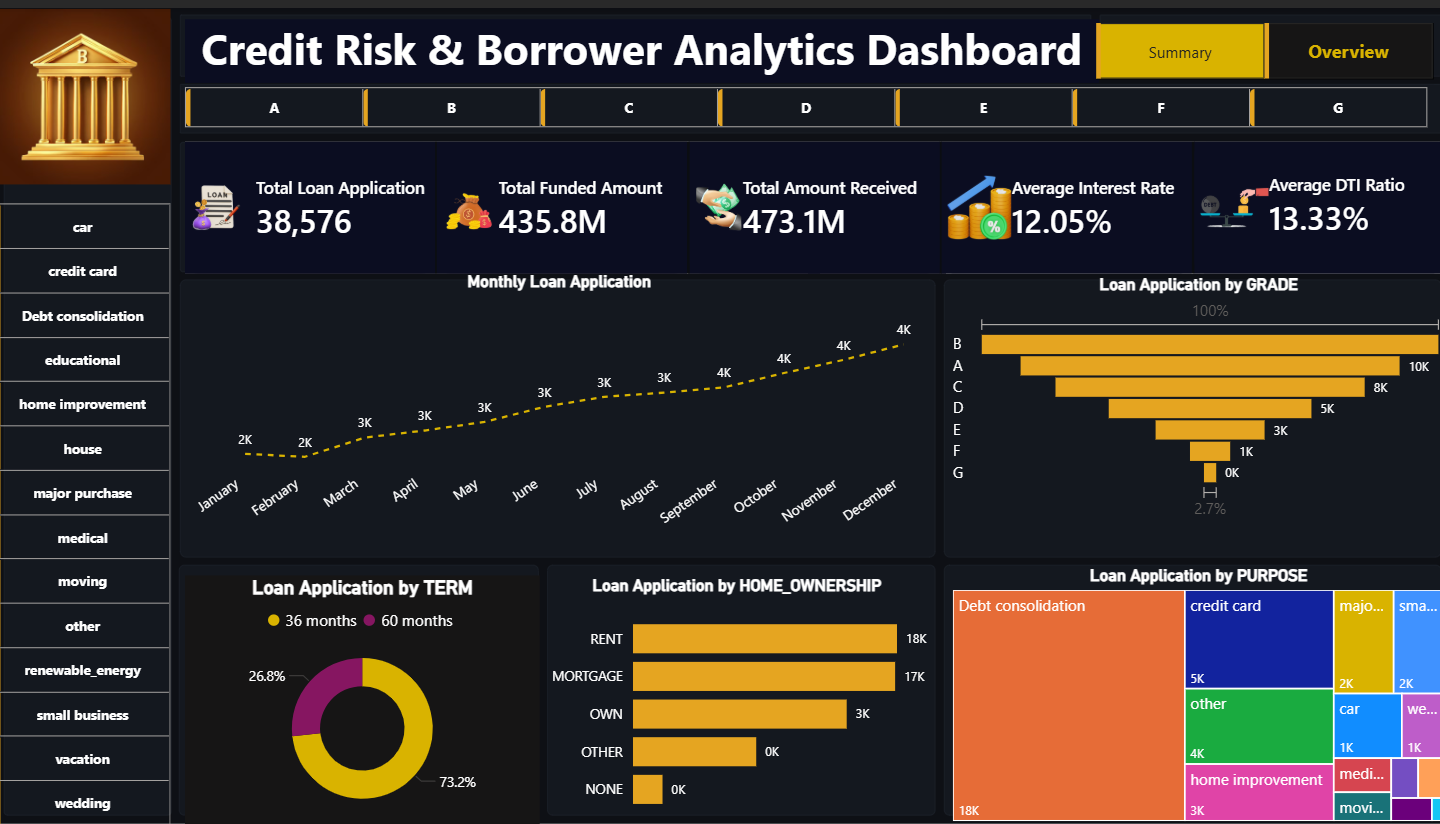

Layout of this report page (visuals, bound fields, positions):
{"tool":"powerbi","page":{"name":"Overview ","canvas":[1280,720],"ordinal":1},"visuals":[{"type":"cardVisual","fields":{"Data":["financial_loan.Total Loan Application","financial_loan.Total Funded Amount","financial_loan.Total Amount Received","financial_loan.Average INT Rate","financial_loan.Average DTI RAte"]},"box":[167.2,117.4,1112.8,116.3],"z":0},{"type":"image","box":[0,0,154.7,155.8],"z":1000},{"type":"advancedSlicerVisual","fields":{"Values":["financial_loan.PURPOSE"]},"box":[0,167.4,154.7,552.3],"z":2000},{"type":"advancedSlicerVisual","fields":{"Values":["financial_loan.GRADE"]},"box":[167.4,65.1,1097.7,40.7],"z":3000},{"type":"textbox","box":[167,9.7,803.8,55.7],"z":4000},{"type":"pageNavigator","box":[968.4,13.3,296.6,49.6],"z":5000},{"type":"lineChart","title":"Monthly  Loan Application","fields":{"Y":["financial_loan.Total Loan Application"],"Category":["financial_loan.ISSUE_DATE.Variation.Date Hierarchy.Month"]},"box":[167,232.4,658.5,244.5],"z":6000},{"type":"donutChart","title":"Loan Application by TERM","fields":{"Category":["financial_loan.TERM"],"Y":["financial_loan.Total Loan Application"]},"box":[167,498.7,312.3,220.3],"z":7000},{"type":"clusteredBarChart","title":"Loan Application by HOME_OWNERSHIP","fields":{"Category":["financial_loan.HOME_OWNERSHIP"],"Y":["financial_loan.Total Loan Application"]},"box":[479.4,498.7,346.2,220.3],"z":7001},{"type":"treemap","title":" Loan Application by PURPOSE","fields":{"Group":["financial_loan.PURPOSE"],"Values":["financial_loan.Total Loan Application"]},"box":[837.9,490.4,442,229.8],"z":7002},{"type":"funnel","title":" Loan Application by GRADE","fields":{"Category":["financial_loan.GRADE"],"Y":["financial_loan.Total Loan Application"]},"box":[837.9,234.2,442,219.9],"z":7003}]}

Visuals, with their boxes in screenshot pixels (x1, y1, x2, y2), scaled from the page's 1280x720 canvas onto the 1440x824 screenshot:
cardVisual - financial_loan.Total Loan Application x financial_loan.Total Funded Amount: bbox=(188, 134, 1439, 267)
image: bbox=(0, 0, 174, 178)
advancedSlicerVisual - financial_loan.PURPOSE: bbox=(0, 192, 174, 823)
advancedSlicerVisual - financial_loan.GRADE: bbox=(188, 75, 1423, 121)
textbox: bbox=(188, 11, 1092, 75)
pageNavigator: bbox=(1089, 15, 1423, 72)
"Monthly  Loan Application" lineChart: bbox=(188, 266, 929, 546)
"Loan Application by TERM" donutChart: bbox=(188, 571, 539, 823)
"Loan Application by HOME_OWNERSHIP" clusteredBarChart: bbox=(539, 571, 929, 823)
" Loan Application by PURPOSE" treemap: bbox=(943, 561, 1439, 823)
" Loan Application by GRADE" funnel: bbox=(943, 268, 1439, 520)
